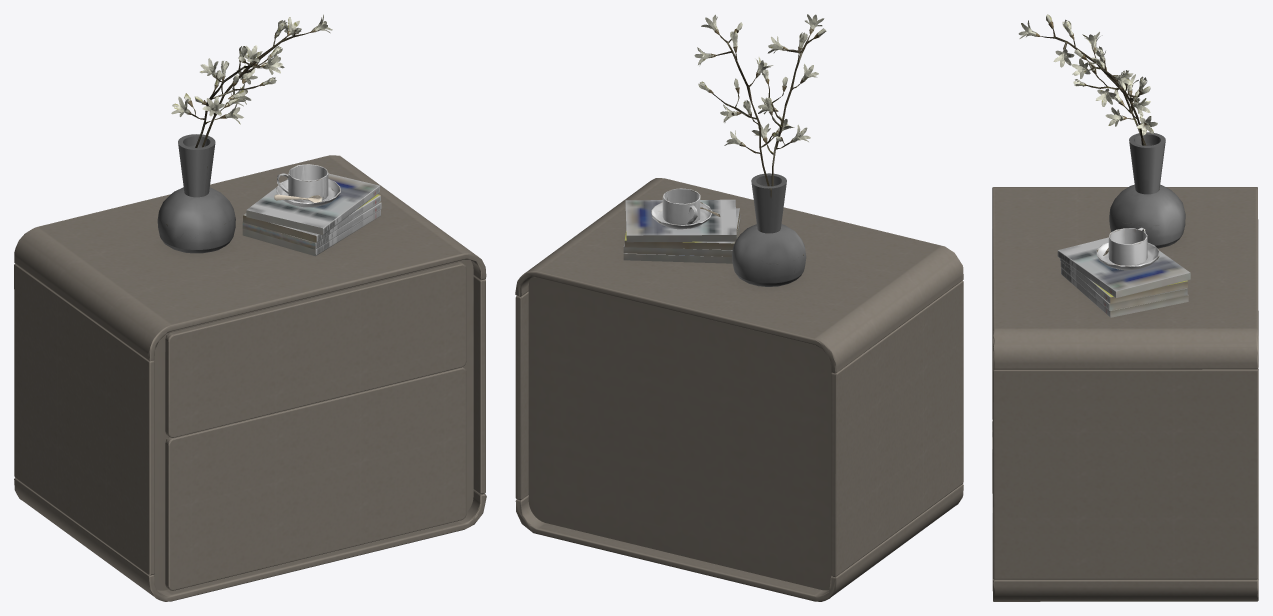
3 views of the same model, side by side, from view 1: azimuth 30°, elevation 25°; view 2: azimuth 150°, elevation 25°; view 3: azimuth 270°, elevation 25° (orthographic). The views are drawn at different scales.
Visible parts, largest first — view 1: solid_009, solid_003, solid_013, glass_001, solid_008, solid_001, solid_004; view 2: solid_009, solid_003, solid_008, solid_013, glass_001, solid_001, solid_004; view 3: solid_009, solid_003, solid_013, glass_001, solid_008, solid_001, solid_004, solid_011, solid_012, solid_014.
Boxes of the visible parts, box(x1,y1,x2,y2) form: solid_009: box(14, 155, 486, 601); solid_003: box(157, 134, 235, 253); solid_013: box(246, 173, 379, 234); glass_001: box(171, 14, 332, 124); solid_008: box(242, 210, 323, 256); solid_001: box(276, 164, 340, 207); solid_004: box(192, 32, 310, 147); solid_009: box(515, 178, 963, 601); solid_003: box(732, 173, 806, 286); solid_008: box(623, 200, 740, 263); solid_013: box(625, 199, 736, 235); glass_001: box(694, 14, 826, 145); solid_001: box(651, 188, 711, 229); solid_004: box(713, 34, 813, 186); solid_009: box(992, 187, 1258, 601); solid_003: box(1109, 132, 1185, 248); solid_013: box(1057, 237, 1190, 297); glass_001: box(1018, 14, 1157, 135); solid_008: box(1109, 273, 1190, 317); solid_001: box(1096, 227, 1159, 270); solid_004: box(1040, 28, 1146, 145); solid_011: box(1060, 262, 1187, 310); solid_012: box(1060, 258, 1187, 303); solid_014: box(1061, 268, 1188, 317).
Size of the model in its own units: 1.04 by 1.48 by 0.7224.
Materials: 1 (1 with a texture image).
